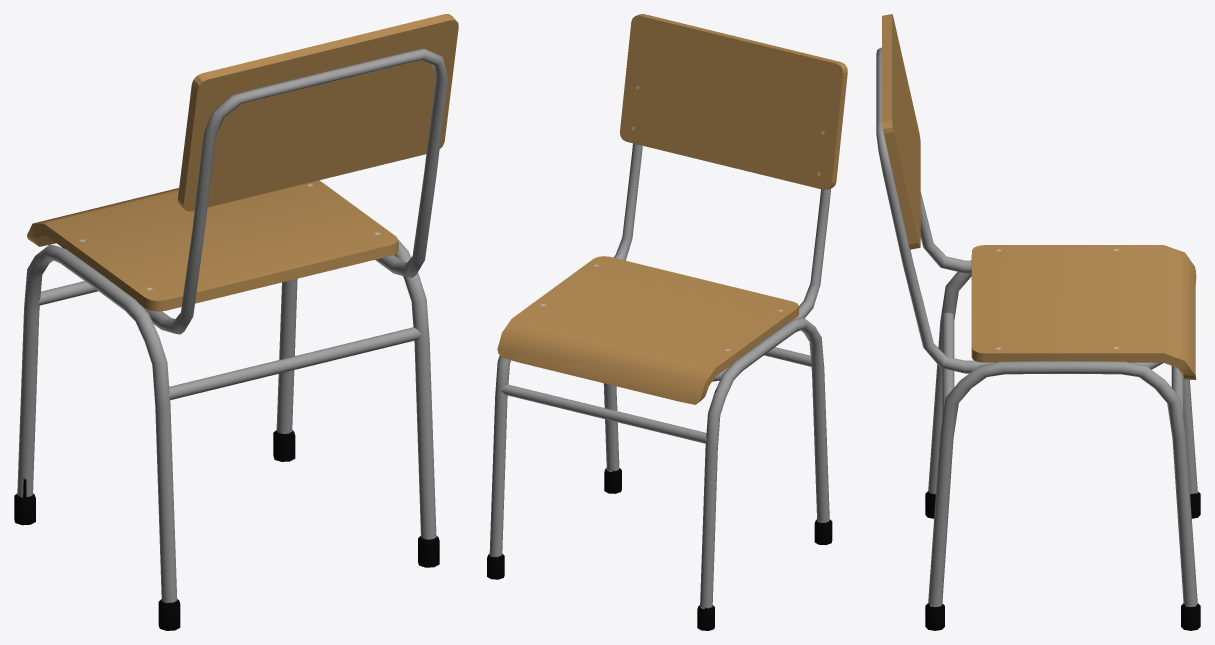
The model's file is school_chair.fbx.
The picture shows the model from 3 angles, left to right: view 1: azimuth 30°, elevation 25°; view 2: azimuth 150°, elevation 25°; view 3: azimuth 270°, elevation 25°; orthographic projection. The views are drawn at different scales.
Visible parts, largest first — view 1: Chair; view 2: Chair; view 3: Chair.
Boxes of the visible parts, box(x1,y1,x2,y2) form: Chair: box(14, 14, 458, 630); Chair: box(487, 14, 847, 630); Chair: box(876, 14, 1200, 630).
Size of the model in its own units: 0.4373 by 0.8527 by 0.4983.
